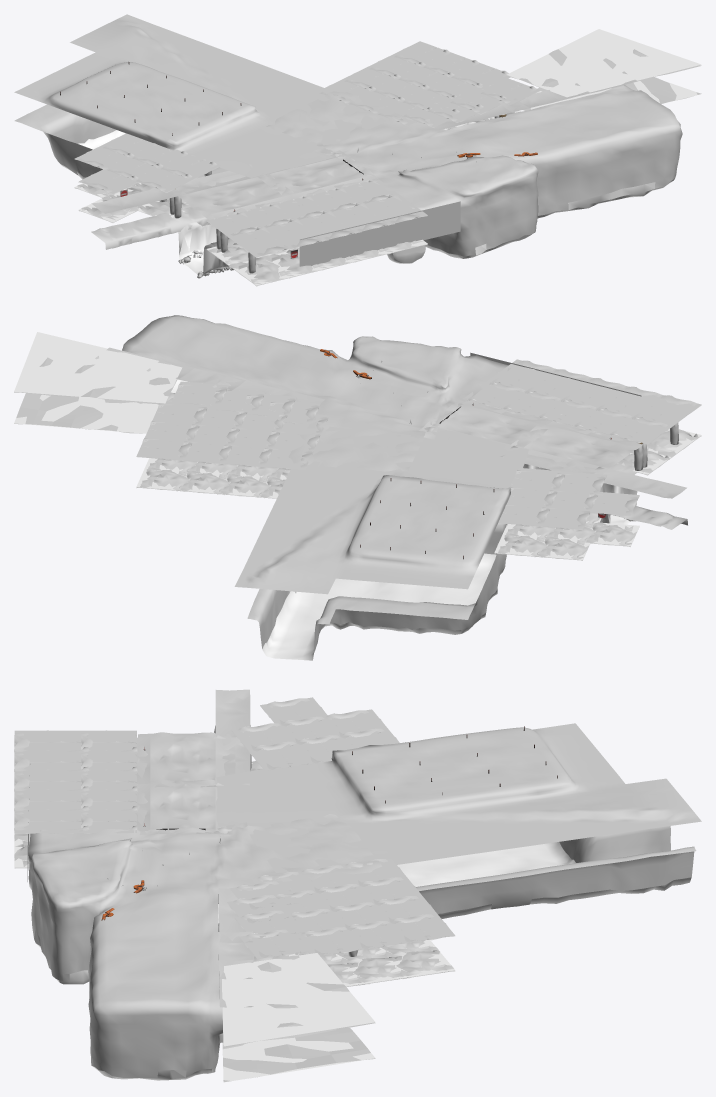
Rendered from Env_Bake_1.fbx.
3 renders of one model, top to bottom at view 1: azimuth 30°, elevation 25°; view 2: azimuth 150°, elevation 25°; view 3: azimuth 270°, elevation 25°, orthographic. The views are drawn at different scales.
Visible parts, largest first — view 1: Unique_006, Unique_002, Unique_003_003, Vent_Barriers_001, _1x1_Lip__1__2, _1x1_Gulley_low_roof, _1x1_Gulley_low_roof_1, Unique_006_001, _1x1_Gulley_low, Unique_003_002, _1x1_Lip__1__3, _4x4_Piece_17 (+35 smaller); view 2: Unique_002, Unique_006, Unique_003_003, Unique_002_001, _1x1_Gulley_low_roof, _1x1_Gulley_low_roof_1, Unique_003_002, _1x1_Lip__1__2, _4x4_Piece_17, _4x4_Piece_57, _4x4_Piece_15, _4x4_Piece_21 (+37 smaller); view 3: Unique_002, Unique_006, Unique_003_003, Unique_002_001, Unique_003_002, _1x1_Gulley_low_roof, _1x1_Gulley_low_roof_1, _1x1_Lip__1__2, _4x4_Piece_17, _4x4_Piece_15, _4x4_Piece_31, _4x4_Piece_33 (+33 smaller).
Boxes of the visible parts, x1,y1,x2,y2 form: Unique_006: (266, 85, 682, 256); Unique_002: (14, 14, 387, 178); Unique_003_003: (506, 29, 701, 110); Vent_Barriers_001: (299, 201, 460, 266); _1x1_Lip__1__2: (91, 188, 184, 249); _1x1_Gulley_low_roof: (172, 173, 293, 219); _1x1_Gulley_low_roof_1: (258, 150, 377, 195); Unique_006_001: (387, 178, 674, 263); _1x1_Gulley_low: (178, 222, 230, 276); Unique_003_002: (510, 49, 701, 110); _1x1_Lip__1__3: (170, 165, 262, 229); _4x4_Piece_17: (228, 226, 293, 285); Unique_002: (234, 426, 528, 652); Unique_006: (122, 315, 510, 471); Unique_003_003: (14, 332, 182, 433); Unique_002_001: (262, 553, 504, 660); _1x1_Gulley_low_roof: (510, 420, 642, 473); _1x1_Gulley_low_roof_1: (419, 400, 549, 448); Unique_003_002: (14, 357, 177, 433); _1x1_Lip__1__2: (594, 467, 687, 529); _4x4_Piece_17: (630, 394, 701, 459); _4x4_Piece_57: (136, 436, 192, 491); _4x4_Piece_15: (605, 416, 671, 474); _4x4_Piece_21: (591, 386, 654, 416); Unique_002: (215, 723, 701, 913); Unique_006: (28, 814, 382, 1077); Unique_003_003: (222, 953, 375, 1082); Unique_002_001: (397, 842, 691, 918); Unique_003_002: (222, 955, 375, 1082); _1x1_Gulley_low_roof: (137, 732, 235, 787); _1x1_Gulley_low_roof_1: (137, 779, 235, 835); _1x1_Lip__1__2: (214, 689, 250, 737); _4x4_Piece_17: (14, 730, 88, 754); _4x4_Piece_15: (81, 730, 136, 754); _4x4_Piece_31: (14, 793, 86, 813); _4x4_Piece_33: (14, 813, 87, 868).
Bounding box in the file's own units: 2051 × 398 × 1668.
